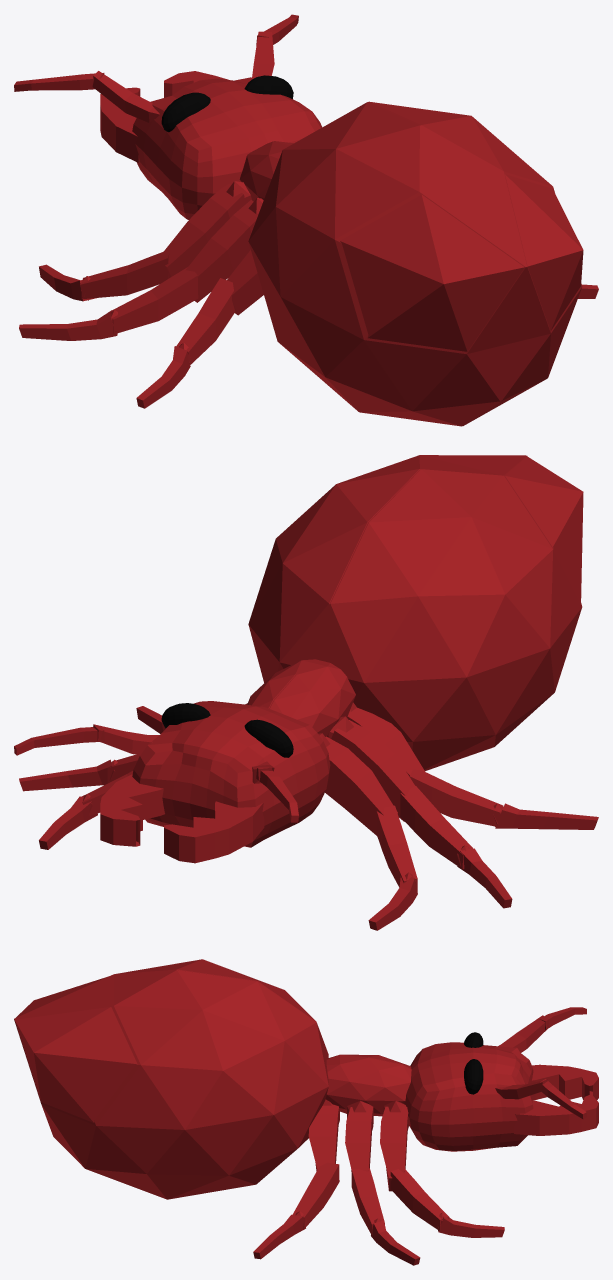
Rendered from Reine.fbx.
3 views of the same model, one above another, from view 1: azimuth 30°, elevation 25°; view 2: azimuth 150°, elevation 25°; view 3: azimuth 270°, elevation 25° (orthographic). The views are drawn at different scales.
Visible parts, largest first — view 1: head.002; view 2: head.002; view 3: head.002.
Boxes of the visible parts, x1,y1,x2,y2 form: head.002: [14, 14, 598, 426]; head.002: [14, 455, 598, 930]; head.002: [14, 959, 598, 1265].
Bounding box in the file's own units: 4.68 × 2.58 × 6.25.
